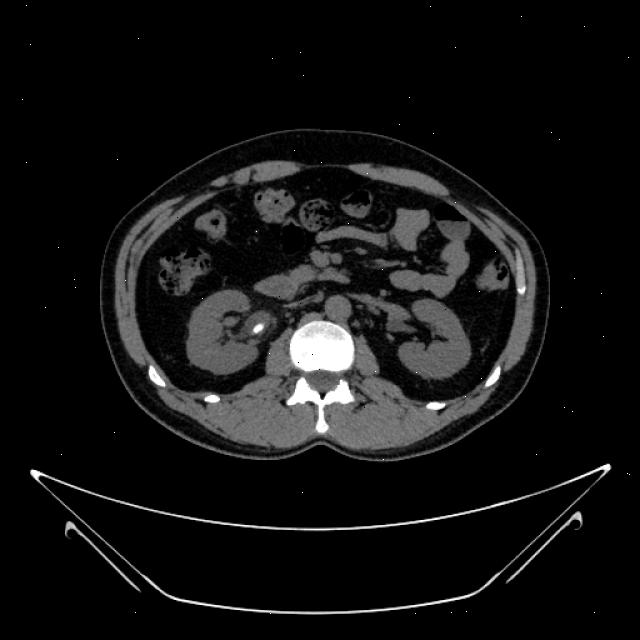kidneystone: (241, 319, 264, 338)
